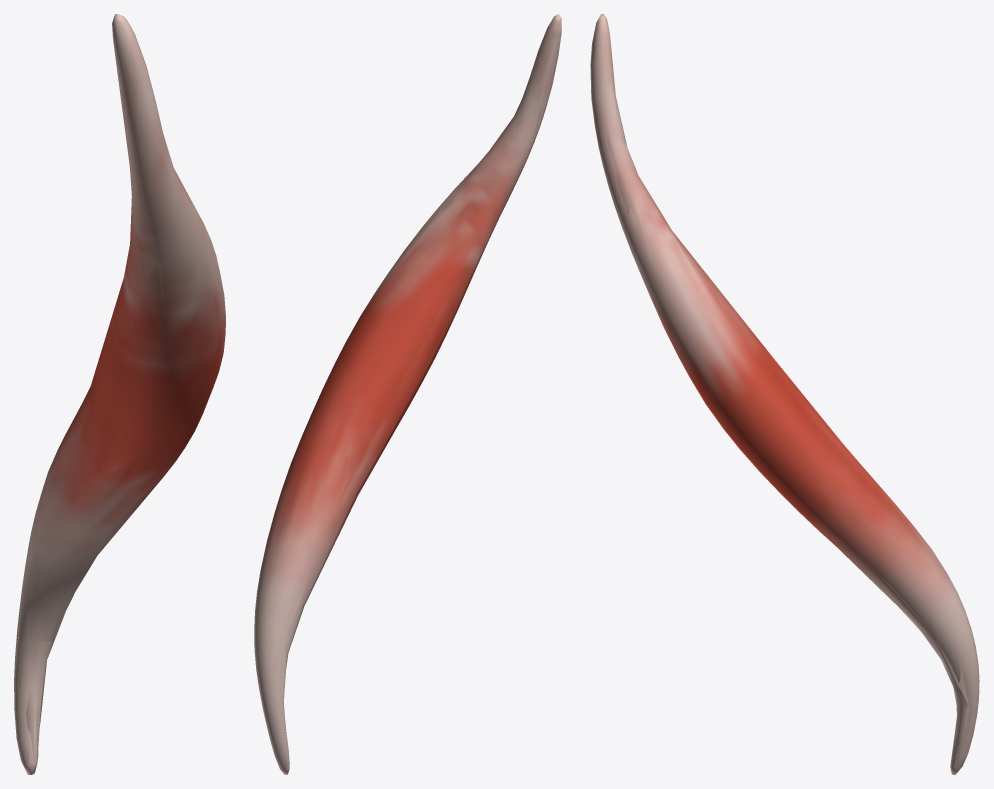
File: R peroneus tertius.fbx
3 renders of one model, left to right at view 1: azimuth 30°, elevation 25°; view 2: azimuth 150°, elevation 25°; view 3: azimuth 270°, elevation 25°, orthographic. The views are drawn at different scales.
Visible parts, largest first — view 1: R peroneus tertius, R peroneus tertius low; view 2: R peroneus tertius, R peroneus tertius low; view 3: R peroneus tertius, R peroneus tertius low.
Boxes of the visible parts, bbox=[...] form: R peroneus tertius: bbox=[14, 14, 225, 774]; R peroneus tertius low: bbox=[14, 28, 219, 763]; R peroneus tertius: bbox=[254, 14, 561, 774]; R peroneus tertius low: bbox=[256, 18, 556, 720]; R peroneus tertius: bbox=[590, 14, 979, 774]; R peroneus tertius low: bbox=[590, 71, 975, 768].
Size of the model in its own units: 4.16 by 17.35 by 8.67.
